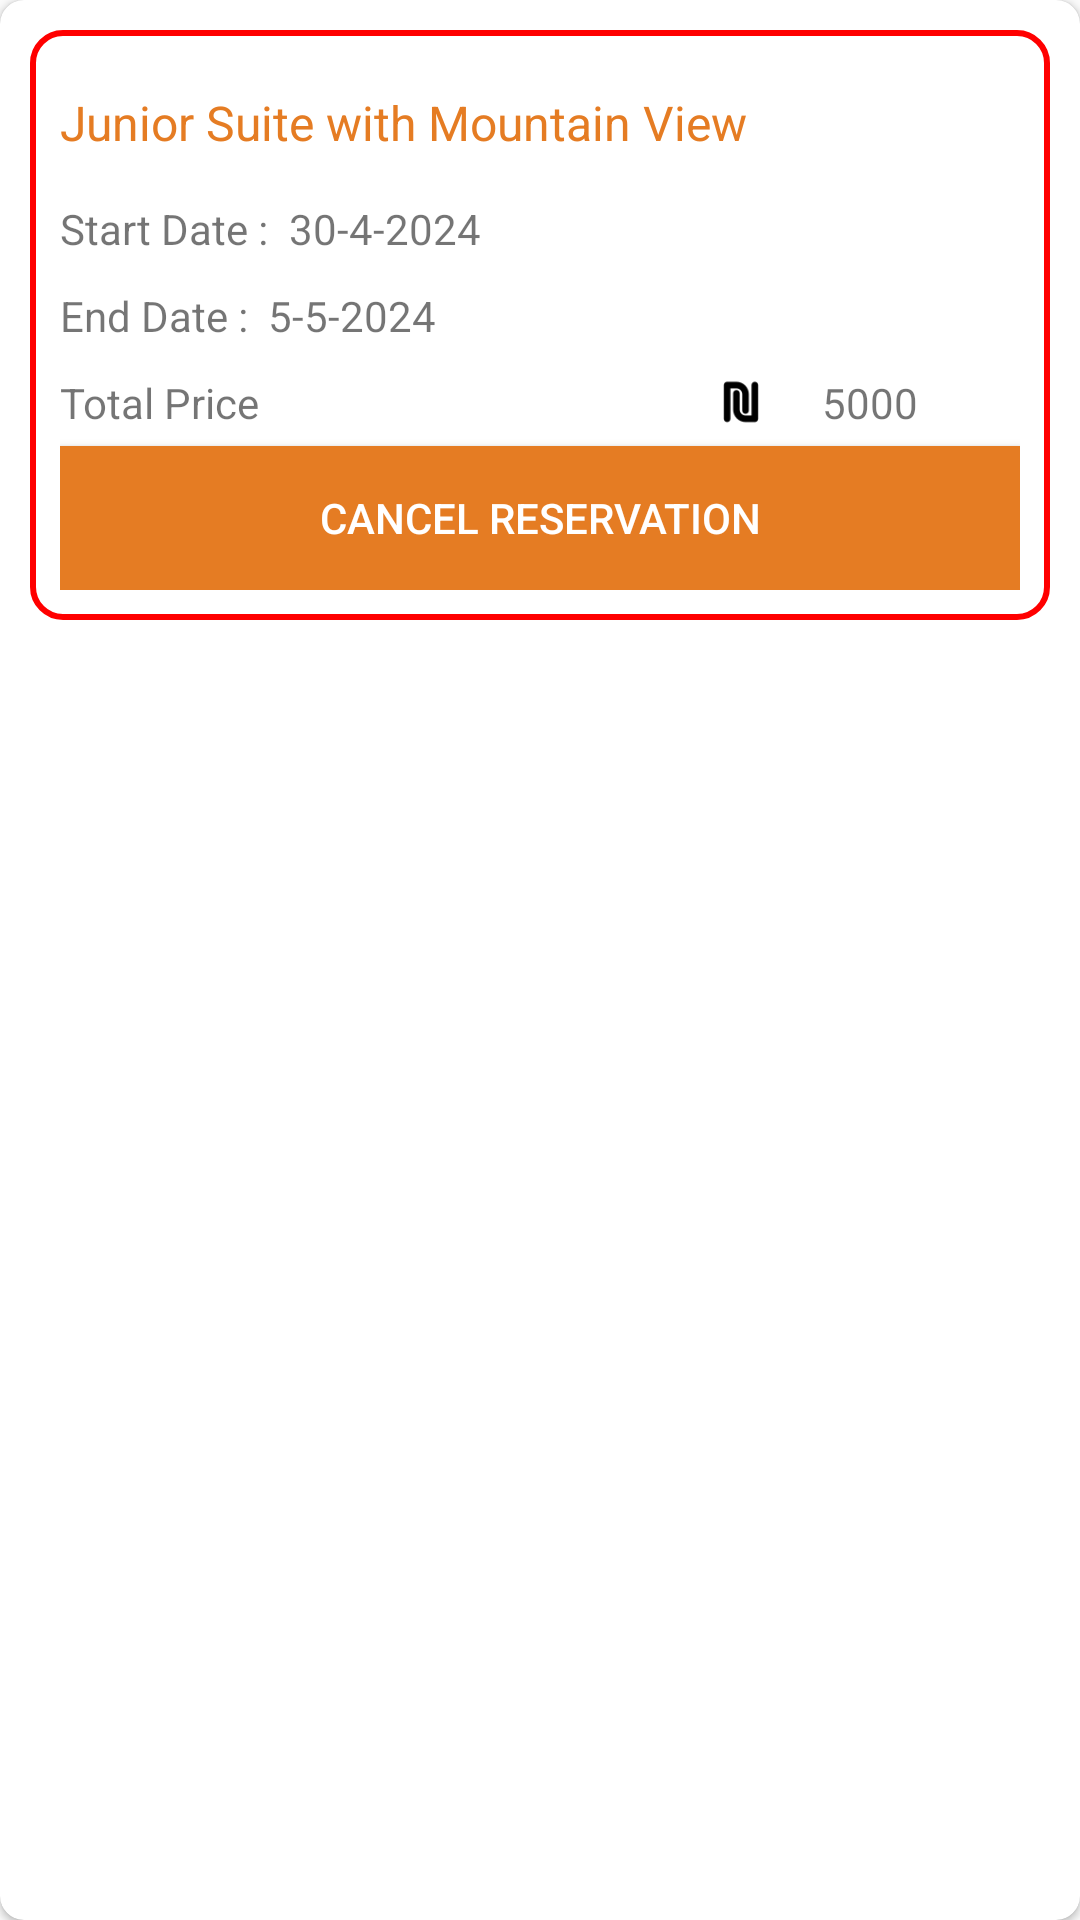

Icons on this 1080×1920 Android screen, each with the point to tap as [x,y]:
shekel: [741,402]
